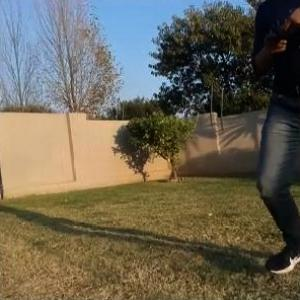follow: (242, 0, 299, 275)
